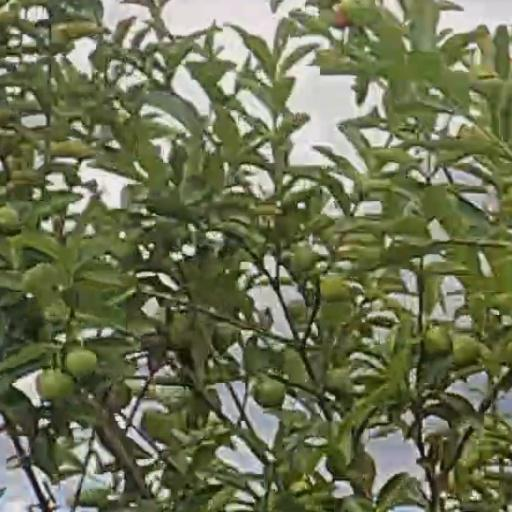acerola_verde: (37, 372, 72, 398), (256, 382, 285, 408), (427, 328, 452, 354), (454, 338, 478, 365), (67, 354, 97, 374)
acerola_vermelha: (328, 6, 351, 29)
